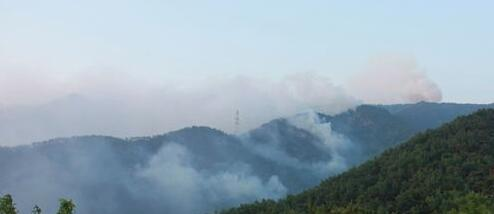yanwu: (1, 51, 444, 211)
